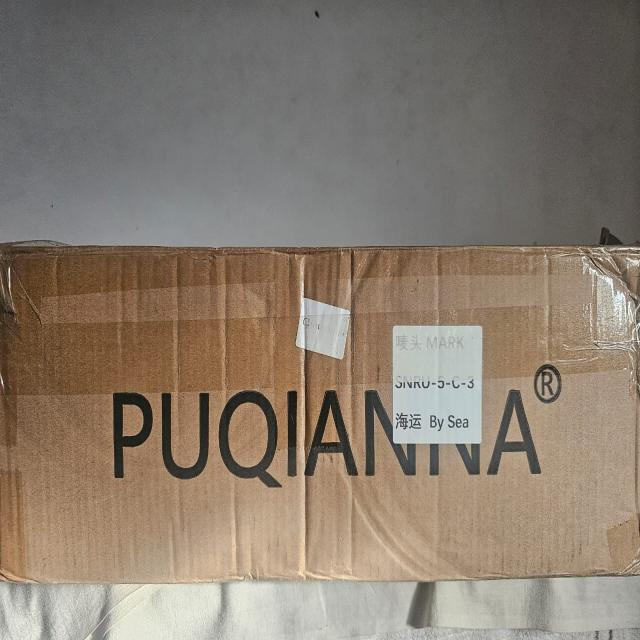carton_box: (0, 227, 640, 595)
export_mark_label: (385, 314, 490, 458)
